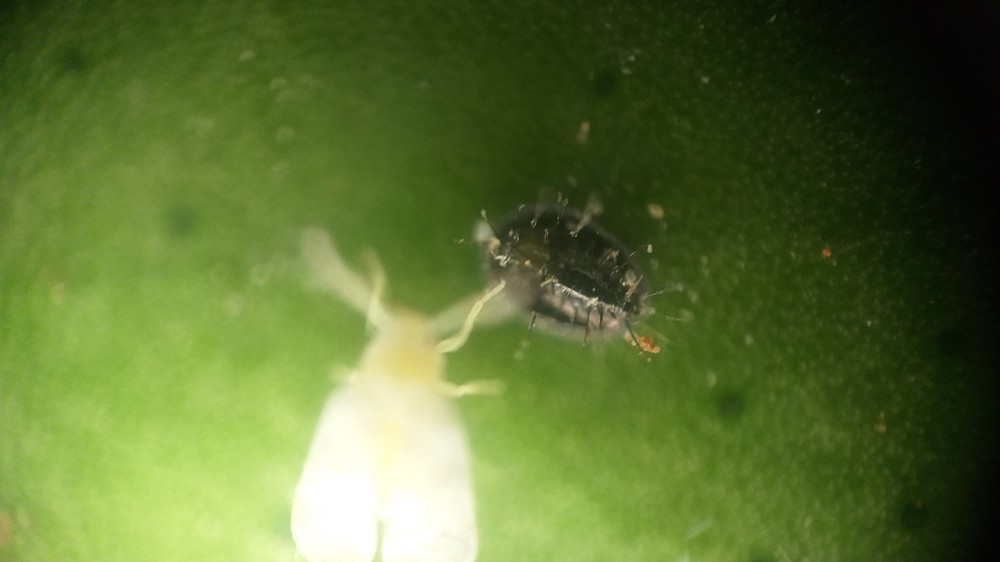Mosca Blanca: (279, 262, 516, 562)
